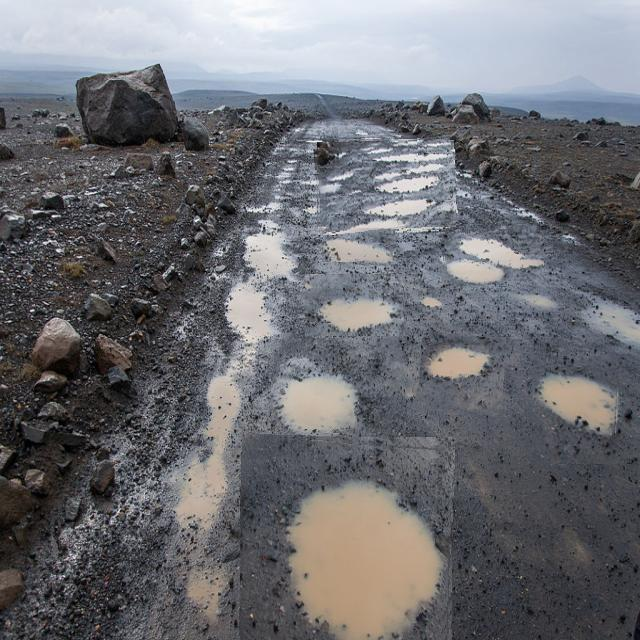Pothole: (240, 435, 453, 640), (271, 338, 407, 435), (315, 139, 456, 232), (532, 356, 619, 464), (419, 334, 509, 414), (305, 274, 404, 336), (442, 226, 544, 286), (322, 227, 396, 265)
